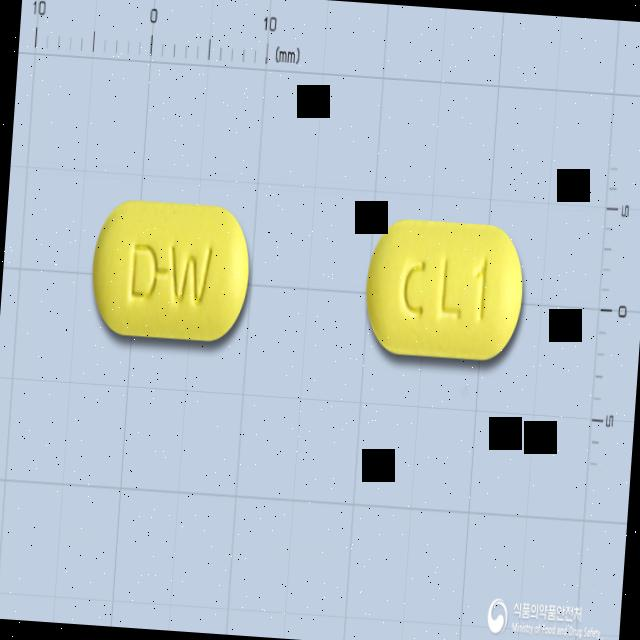Clearmycin: (360, 214, 527, 364), (87, 199, 252, 345)
